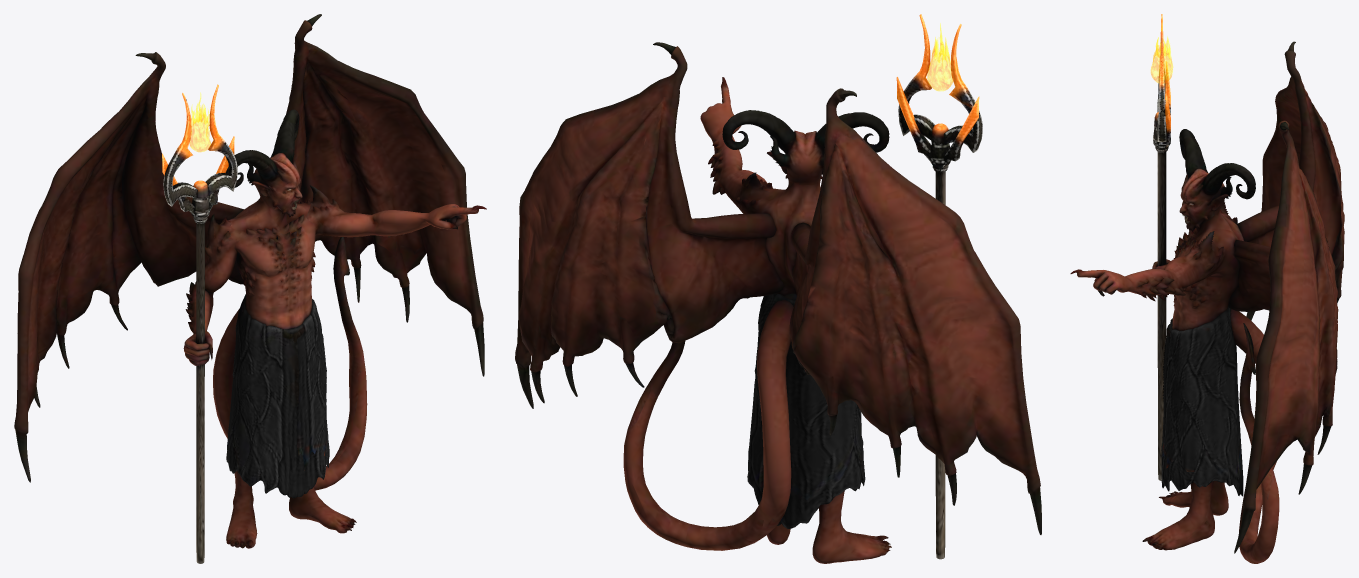
Rendered from MZ4250 - Horned Devil 2025.glb.
3 views of the same model, side by side, from view 1: azimuth 30°, elevation 25°; view 2: azimuth 150°, elevation 25°; view 3: azimuth 270°, elevation 25° (orthographic). The views are drawn at different scales.
Parts seen in each view (by area): view 1: Body.001; view 2: Body.001; view 3: Body.001.
Boxes of the visible parts, x1,y1,x2,y2 form: Body.001: [14, 14, 486, 563]; Body.001: [515, 14, 1041, 563]; Body.001: [1070, 14, 1344, 563].
Size of the model in its own units: 170 by 166 by 90.05.
Materials: 3 (3 with a texture image).
